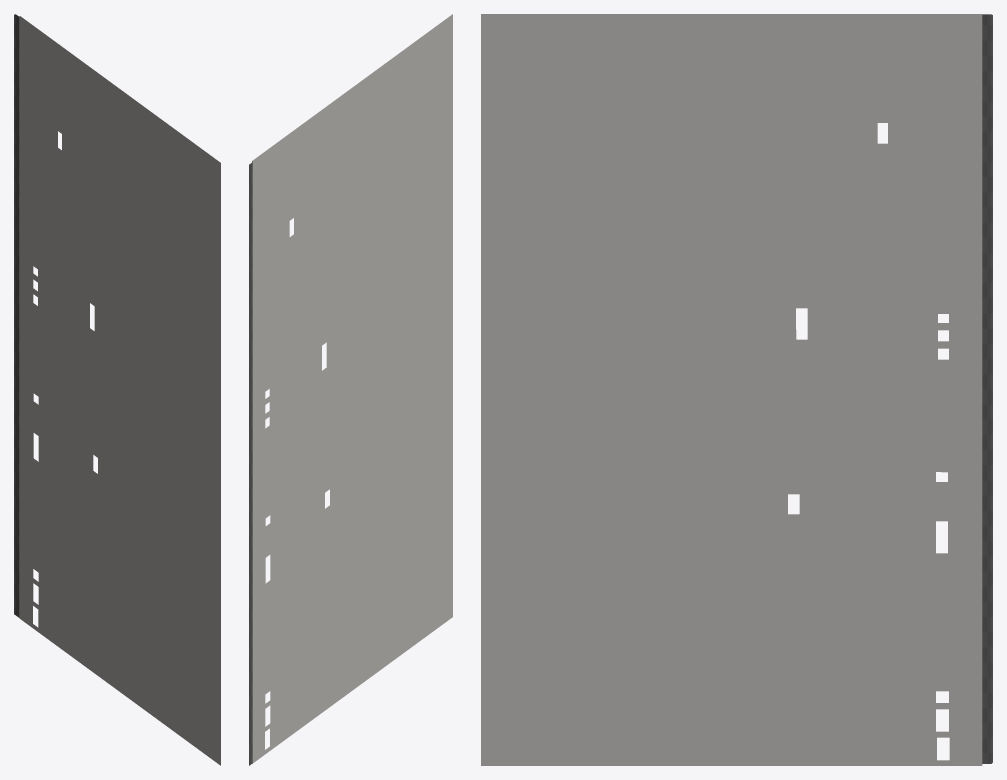
File: SM_Living_Wall_04.obj
3 renders of one model, left to right at view 1: azimuth 30°, elevation 25°; view 2: azimuth 150°, elevation 25°; view 3: azimuth 270°, elevation 25°, orthographic. The views are drawn at different scales.
Parts seen in each view (by area): view 1: SM_Living_Wall_04; view 2: SM_Living_Wall_04; view 3: SM_Living_Wall_04.
Part boxes in pixels (<box>): SM_Living_Wall_04: <box>14,14,220,765</box>; SM_Living_Wall_04: <box>249,14,452,765</box>; SM_Living_Wall_04: <box>481,14,992,765</box>.
Bounding box in the file's own units: 0.015 × 4.96 × 3.06.
2 materials, 1 textured.
